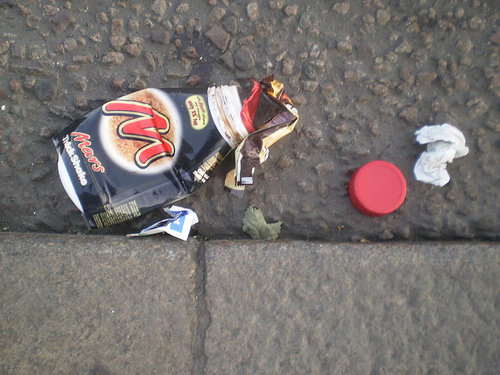litter: (51, 72, 246, 241), (244, 75, 299, 185), (413, 125, 470, 186), (346, 162, 407, 213)
